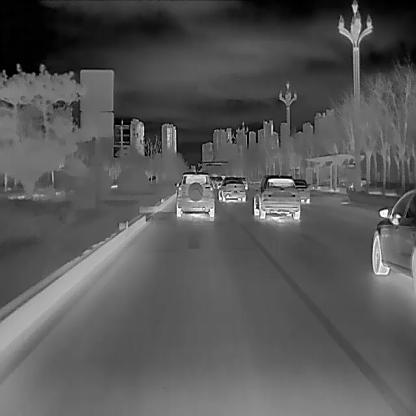car: (370, 188, 416, 280), (252, 174, 300, 218), (174, 171, 215, 217), (218, 176, 245, 201), (292, 178, 310, 202), (212, 176, 222, 188)
